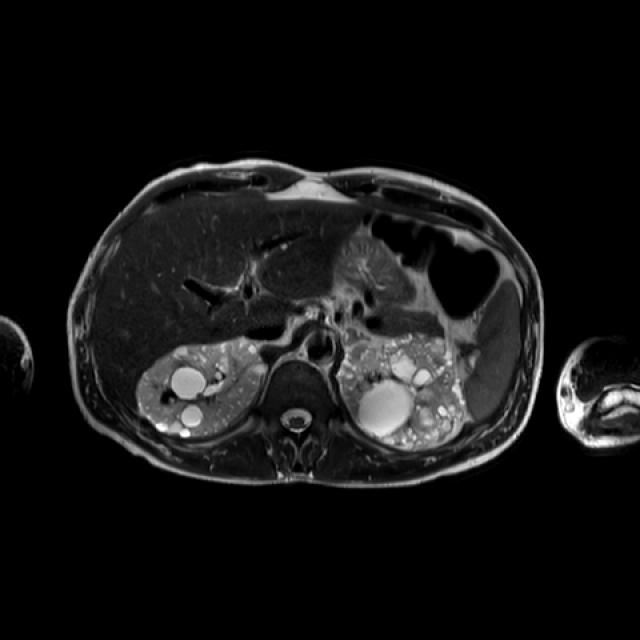sag: (135, 340, 265, 435)
sol: (340, 335, 465, 447)
